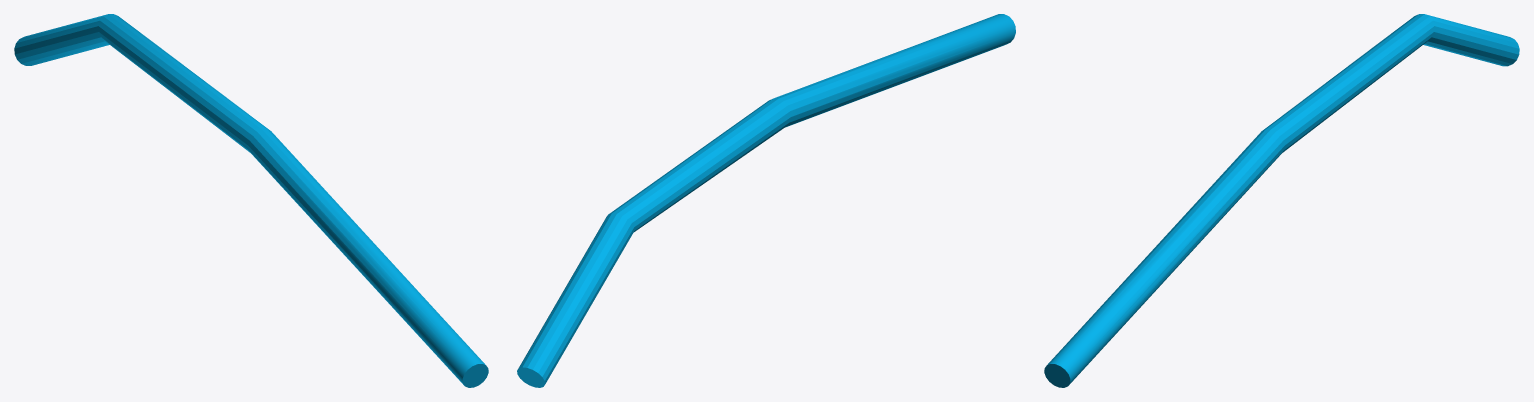
The model's file is Fence_03_Break_Fall_Lod0.fbx.
3 views of the same model, side by side, from view 1: azimuth 30°, elevation 25°; view 2: azimuth 150°, elevation 25°; view 3: azimuth 330°, elevation 25° (orthographic). The views are drawn at different scales.
Parts seen in each view (by area): view 1: Fence_03_Break_Fall_Lod0; view 2: Fence_03_Break_Fall_Lod0; view 3: Fence_03_Break_Fall_Lod0.
Boxes of the visible parts, box(x1,y1,x2,y2) form: Fence_03_Break_Fall_Lod0: box(14, 14, 488, 387); Fence_03_Break_Fall_Lod0: box(517, 14, 1015, 387); Fence_03_Break_Fall_Lod0: box(1044, 14, 1519, 387).
Bounding box in the file's own units: 8.78 × 34.24 × 259.
